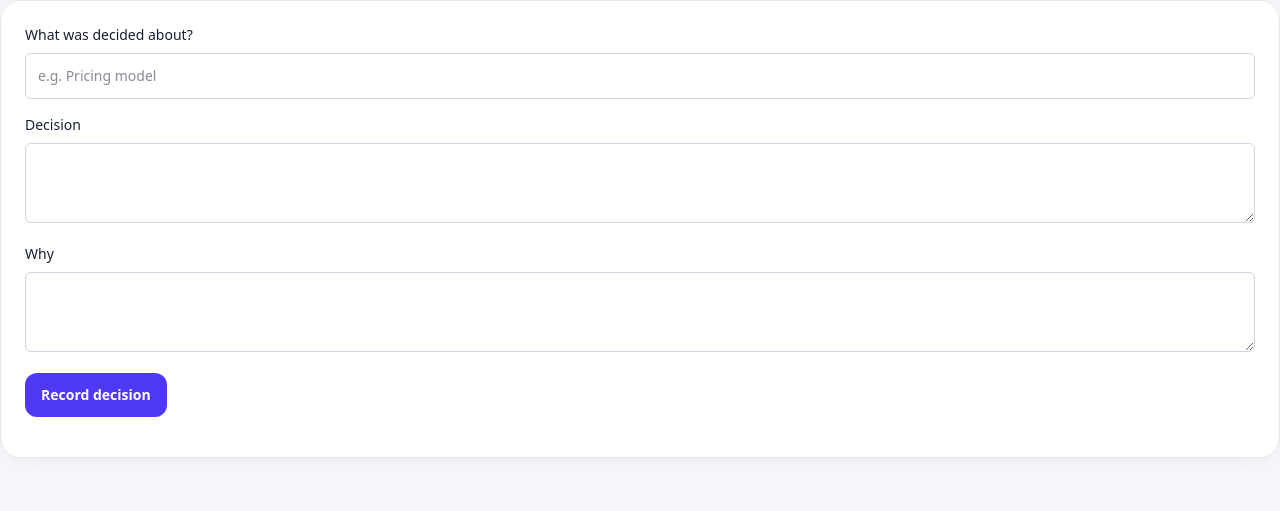
it: preserves input and shows failure without a success message
The image size is (1280, 511).
Step 1. Type "Pricing model" into the field labelled "What was decided about?" → (640, 76), box [25,53,1255,99]
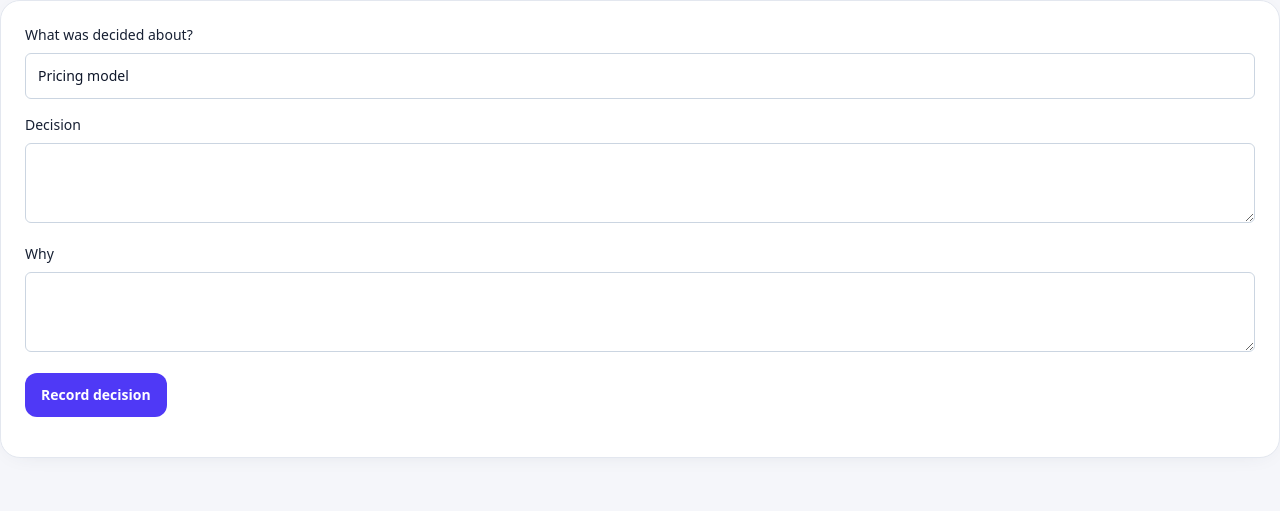
Step 2. Submit the form
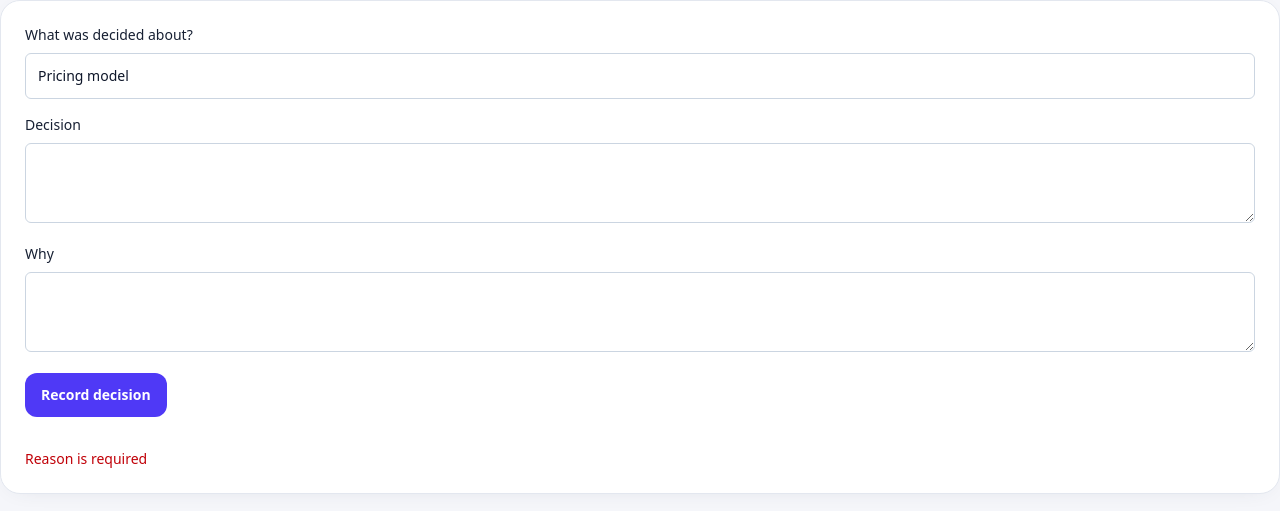
Expected: the message "Reason is required" is shown, [25,449,147,468]
